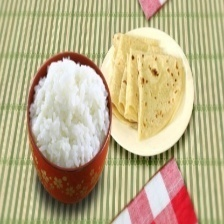rice: (26, 54, 112, 174)
